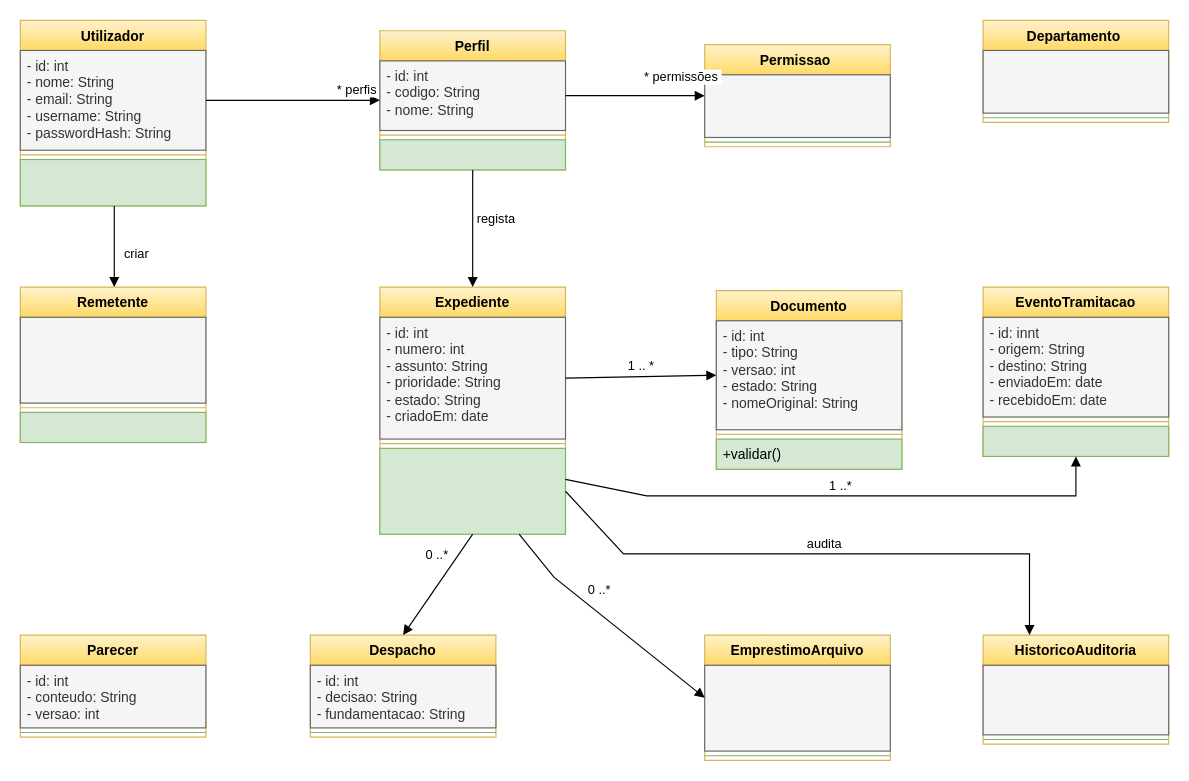
Image size: 1189x781. Some labels were removed from this diagram. Here are the shapes that lost their labels. From the top down, the centre of each, then its label:
At pixel 1075 81: "- id: int - nome: String - ativo: Boolean".
At pixel 797 105: "- id: int - codigo: String - descricao: String".
At pixel 472 154: "+ atribuirPermissao()".
At pixel 112 182: "+ autenticar() + possuiPesmissao()".
At pixel 112 359: "- id: int - nomeÇ String - tipo: String - contacto: Int".
At pixel 112 427: "consultarEstadoProcesso()".
At pixel 1075 440: "+ confirmarRecebimento()".
At pixel 472 490: "+ registar() + encaminhar() + concluir() + arquivar()".
At pixel 797 707: "- id: int - motivo: String - prazo: date - devolvidoEm:date".
At pixel 1075 699: "- id: int - accao: String - entidade: String - criadoEm: date".
